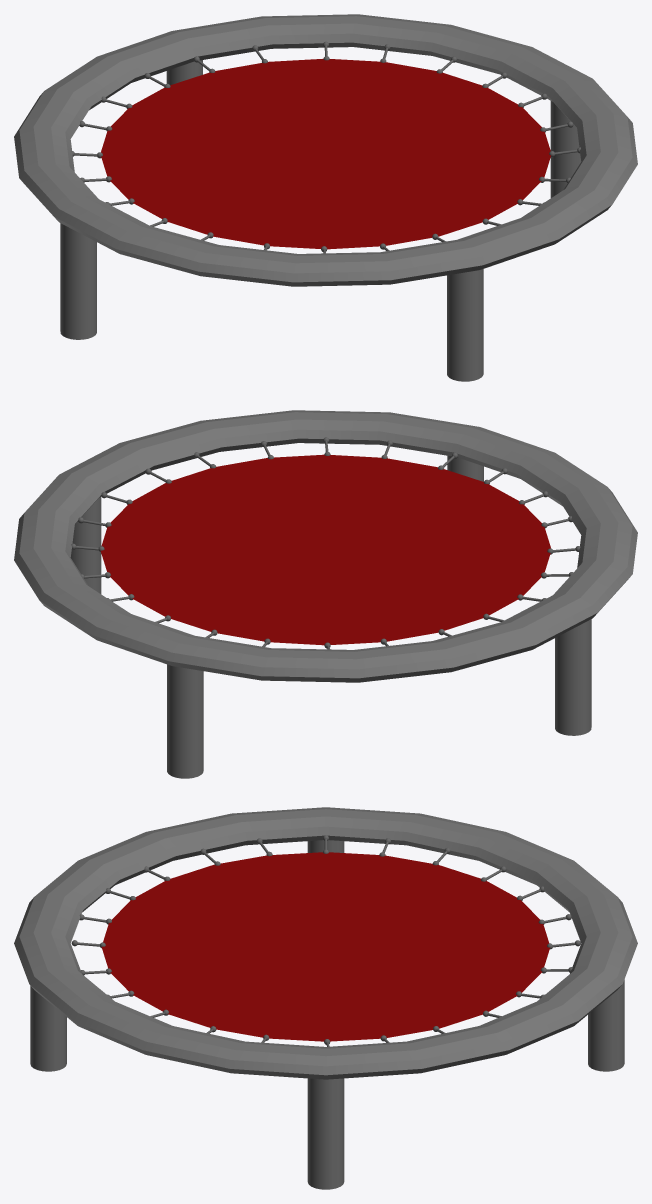
Rendered from Trampoline.fbx.
The picture shows the model from 3 angles, top to bottom: view 1: azimuth 30°, elevation 25°; view 2: azimuth 150°, elevation 25°; view 3: azimuth 270°, elevation 25°; orthographic projection.
Parts seen in each view (by area): view 1: Trampoline_pDisc1, Trampoline_pTorus1, Trampoline_group2pCylinder3, Trampoline_group2pCylinder1, Trampoline_group1_pSphere1, Trampoline_group2pCylinder2, Trampoline_pCylinder4group2; view 2: Trampoline_pDisc1, Trampoline_pTorus1, Trampoline_pCylinder4group2, Trampoline_group2pCylinder1, Trampoline_group1_pSphere1, Trampoline_group2pCylinder2, Trampoline_group2pCylinder3; view 3: Trampoline_pDisc1, Trampoline_pTorus1, Trampoline_group2pCylinder2, Trampoline_pCylinder4group2, Trampoline_group2pCylinder3, Trampoline_group1_pSphere1.
Boxes of the visible parts, left/top/right/bottom form: Trampoline_pDisc1: left=101, top=58, right=550, bottom=249; Trampoline_pTorus1: left=14, top=14, right=637, bottom=286; Trampoline_group2pCylinder3: left=447, top=269, right=483, bottom=381; Trampoline_group2pCylinder1: left=60, top=223, right=96, bottom=339; Trampoline_group1_pSphere1: left=71, top=41, right=580, bottom=253; Trampoline_group2pCylinder2: left=550, top=101, right=581, bottom=197; Trampoline_pCylinder4group2: left=166, top=60, right=202, bottom=85; Trampoline_pDisc1: left=100, top=454, right=550, bottom=645; Trampoline_pTorus1: left=14, top=410, right=637, bottom=682; Trampoline_pCylinder4group2: left=167, top=664, right=203, bottom=778; Trampoline_group2pCylinder1: left=555, top=619, right=591, bottom=735; Trampoline_group1_pSphere1: left=71, top=437, right=580, bottom=649; Trampoline_group2pCylinder2: left=70, top=497, right=101, bottom=593; Trampoline_group2pCylinder3: left=447, top=455, right=483, bottom=481; Trampoline_pDisc1: left=101, top=852, right=549, bottom=1041; Trampoline_pTorus1: left=14, top=807, right=637, bottom=1079; Trampoline_group2pCylinder2: left=307, top=1078, right=344, bottom=1189; Trampoline_pCylinder4group2: left=588, top=979, right=624, bottom=1071; Trampoline_group2pCylinder3: left=30, top=986, right=66, bottom=1071; Trampoline_group1_pSphere1: left=71, top=835, right=580, bottom=1046.
Size of the model in its own units: 2.2 by 0.5113 by 2.2.
